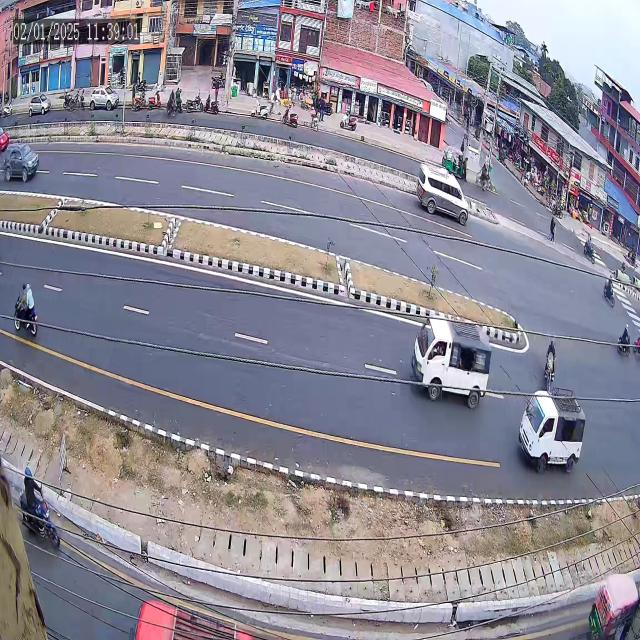car: (0, 134, 47, 186)
motorcycle: (9, 454, 71, 564), (8, 272, 43, 345), (538, 320, 560, 393), (606, 322, 634, 364), (598, 264, 617, 316)
van: (404, 294, 494, 426), (514, 384, 592, 487)
